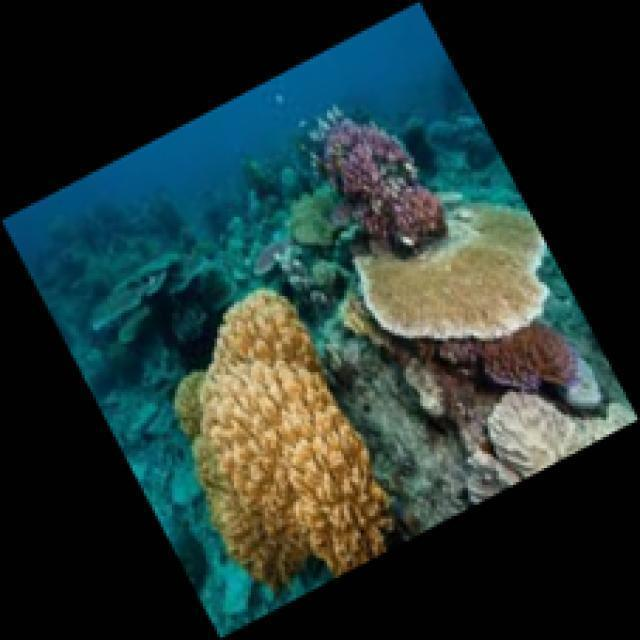Dead Coral: (53, 199, 197, 347)
